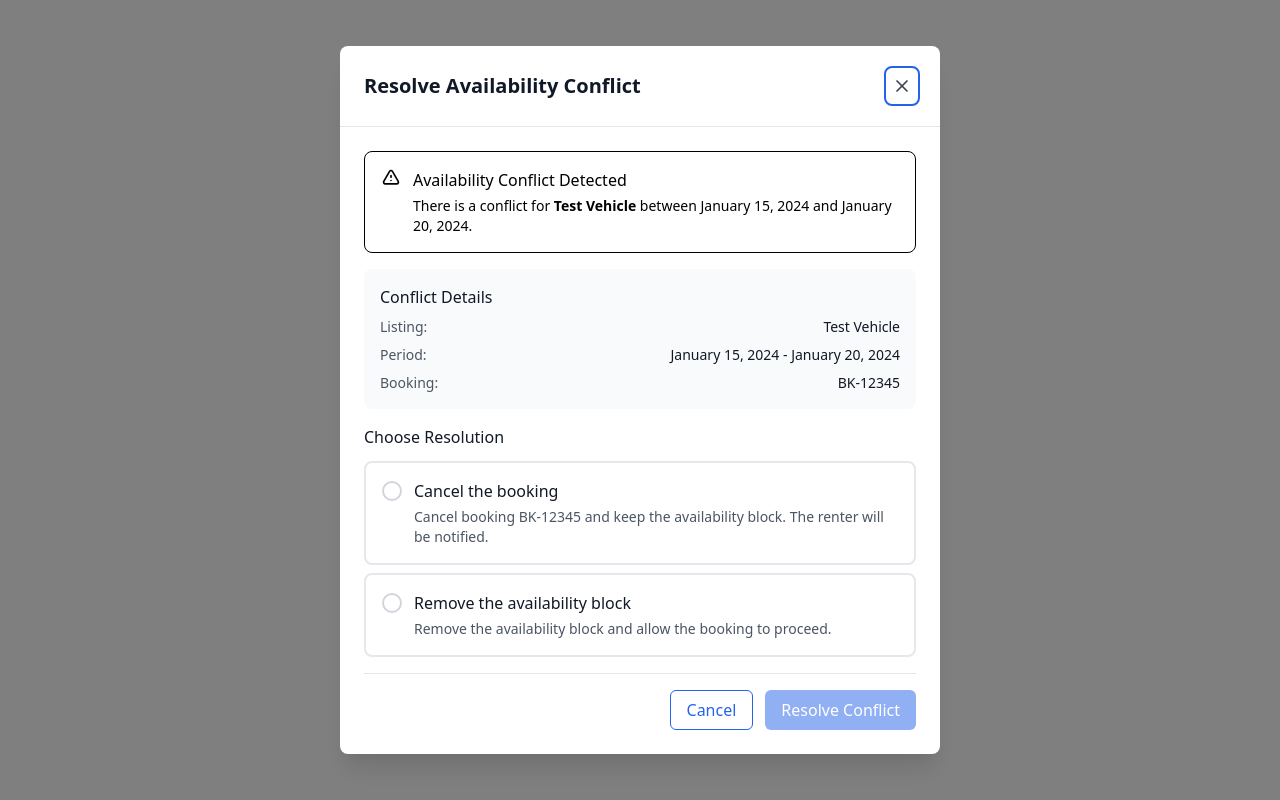
Scenario: ConflictResolutionModal › enables resolve button when an option is selected
Expected: the button "Resolve Conflict" is disabled, [765, 690, 916, 730]
Note: Select an option
Click the button "Cancel the booking": [640, 513] box [364, 461, 916, 565]
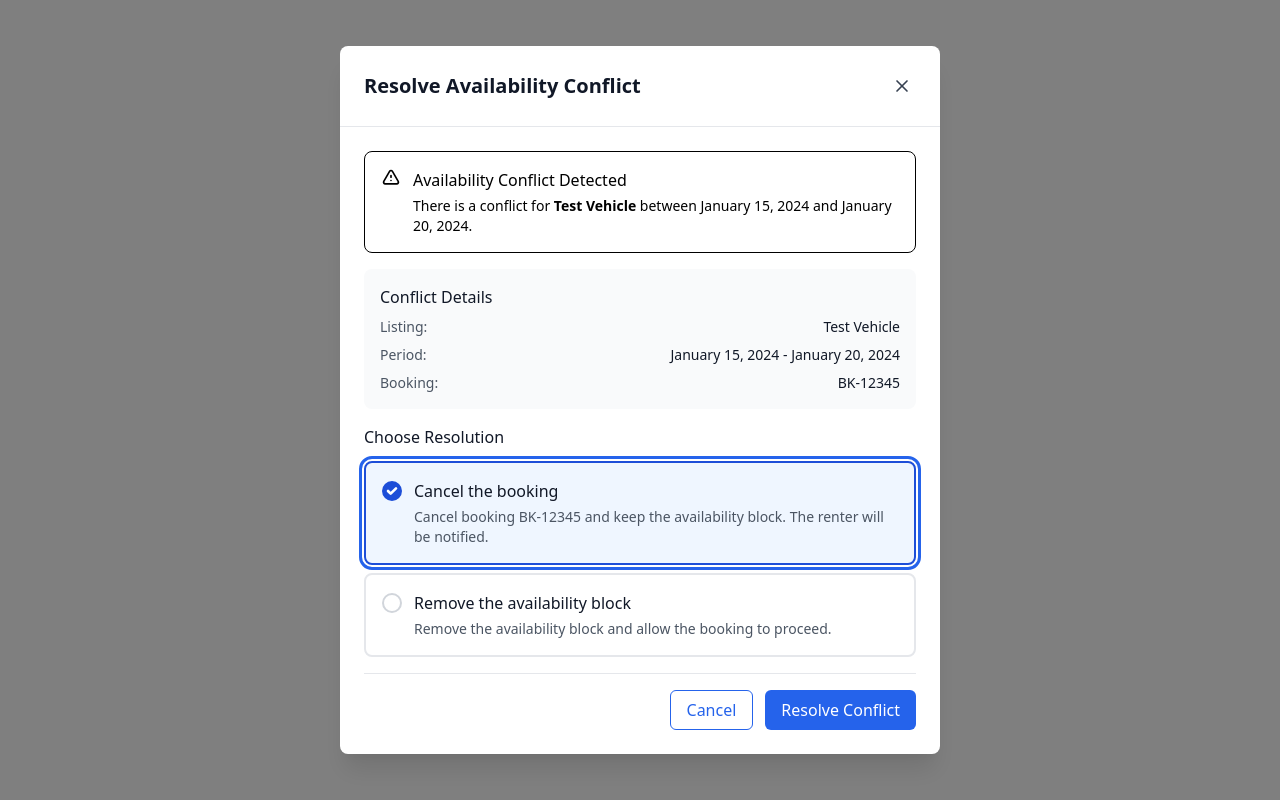
Result: the button "Resolve Conflict" is enabled at [765, 690, 916, 730]
